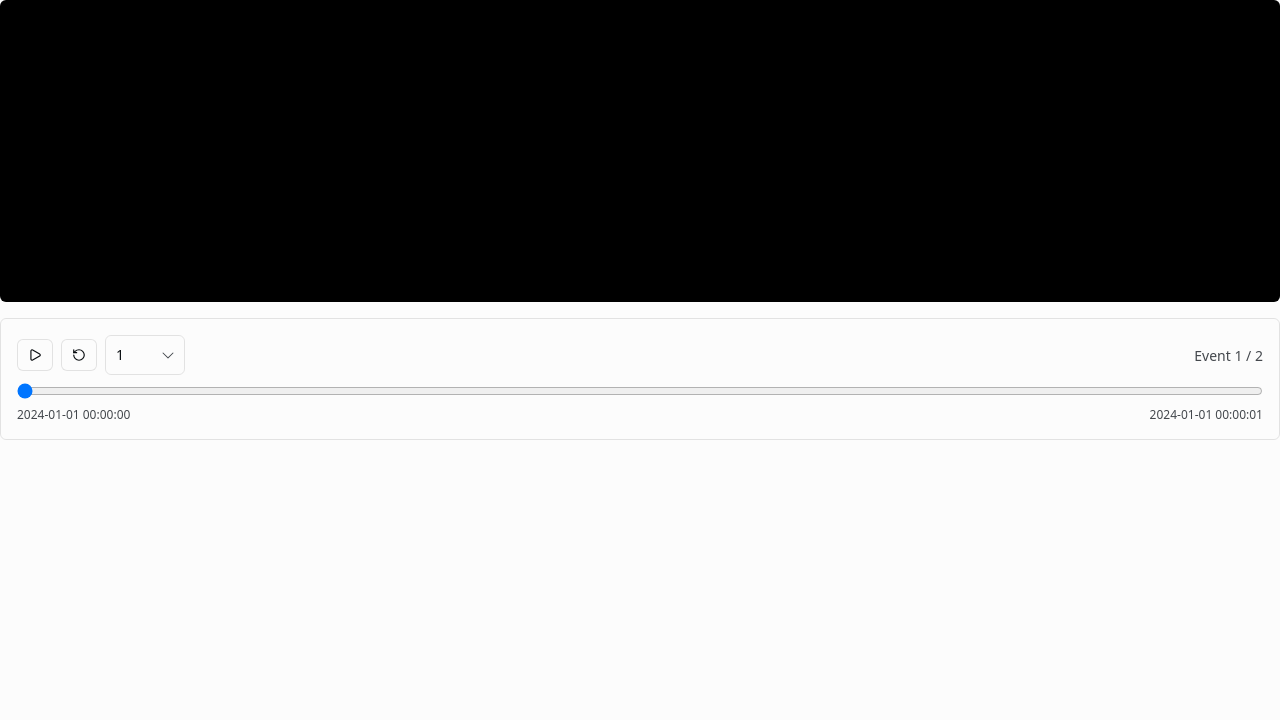
RecordingPlayer › should render file marker without fileMap prop
Click the button named "Play". click: (35, 355)
box: left=17, top=339, right=53, bottom=371
Wait 1000 ms
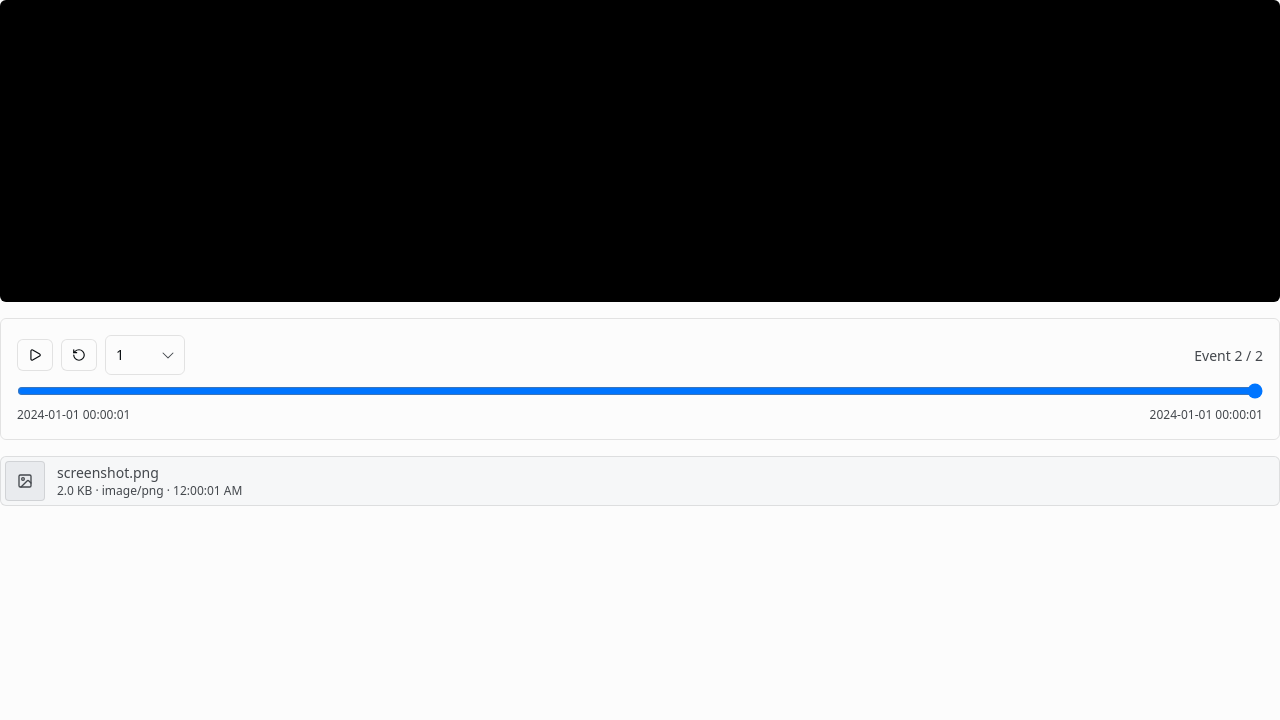
Now the element with test id "recording-file-events-panel" is shown, box left=0, top=456, right=1279, bottom=506
